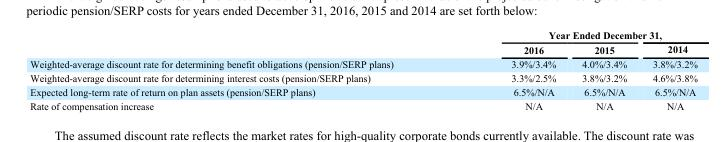table: (29, 29, 696, 111)
table column: (29, 29, 451, 111), (451, 29, 568, 111), (568, 29, 639, 111), (639, 29, 696, 111)
table column header: (29, 29, 696, 56)
table row: (29, 41, 696, 56), (29, 56, 696, 71), (29, 84, 696, 98), (29, 71, 696, 84), (29, 98, 696, 111), (29, 29, 696, 41)
table spanning cell: (451, 29, 696, 41)
